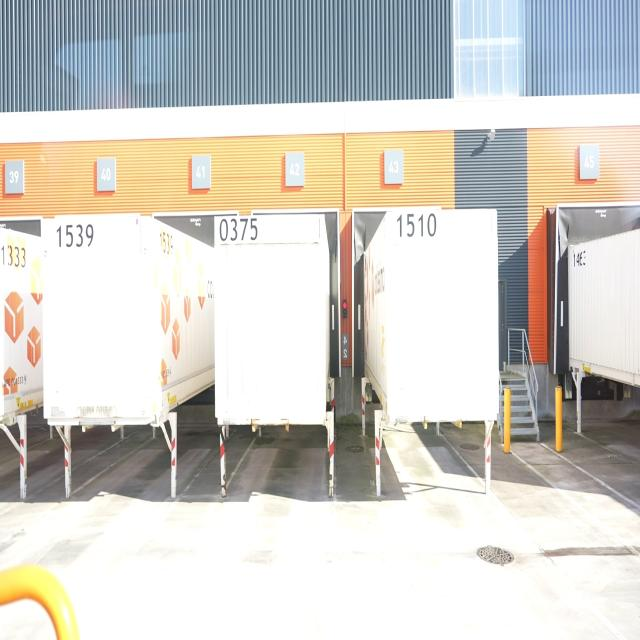Code: (216, 215, 263, 247), (394, 208, 440, 240), (56, 220, 97, 251), (1, 235, 30, 273)
